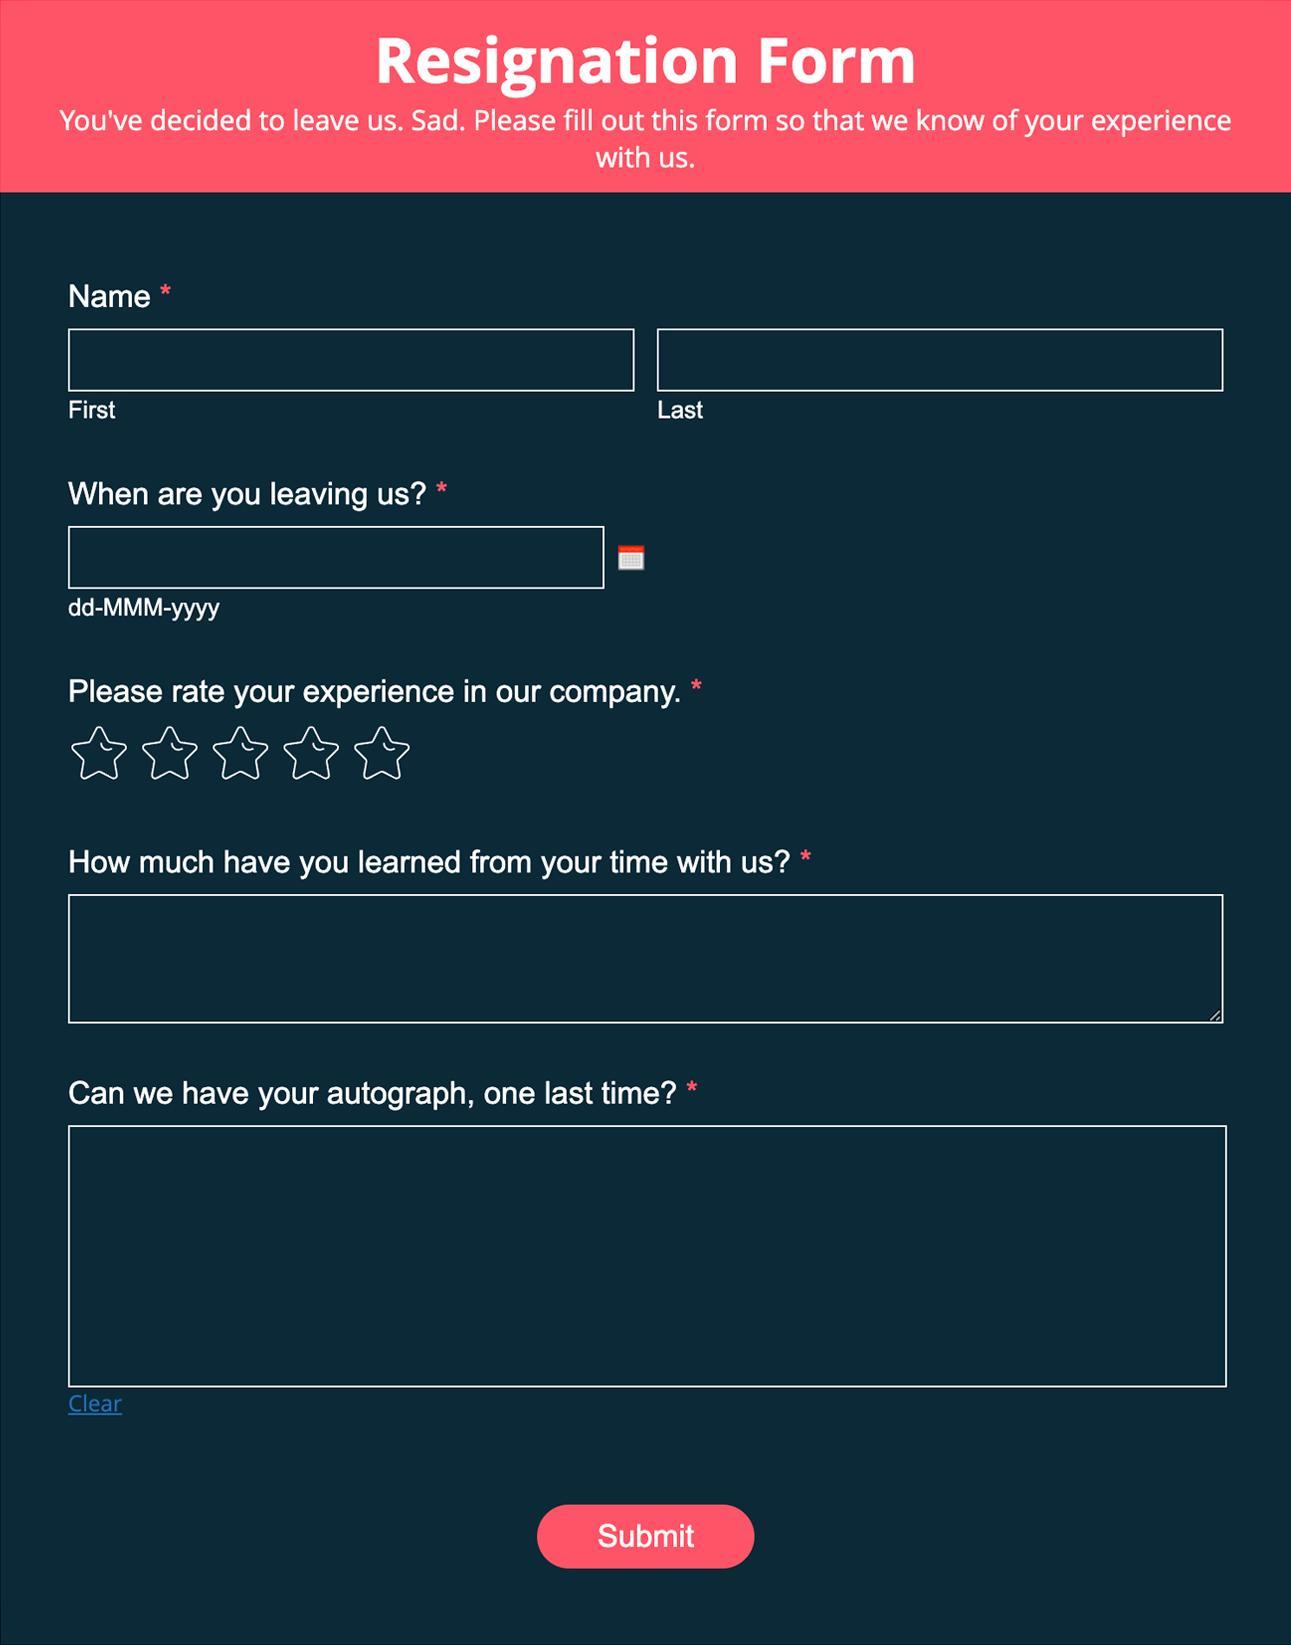button: (535, 1502, 756, 1572)
input: (69, 895, 1226, 1025), (67, 328, 638, 394), (656, 328, 1226, 394), (67, 526, 607, 593)
label: (61, 844, 830, 883), (69, 1071, 720, 1114), (65, 474, 455, 513), (65, 275, 178, 311)
